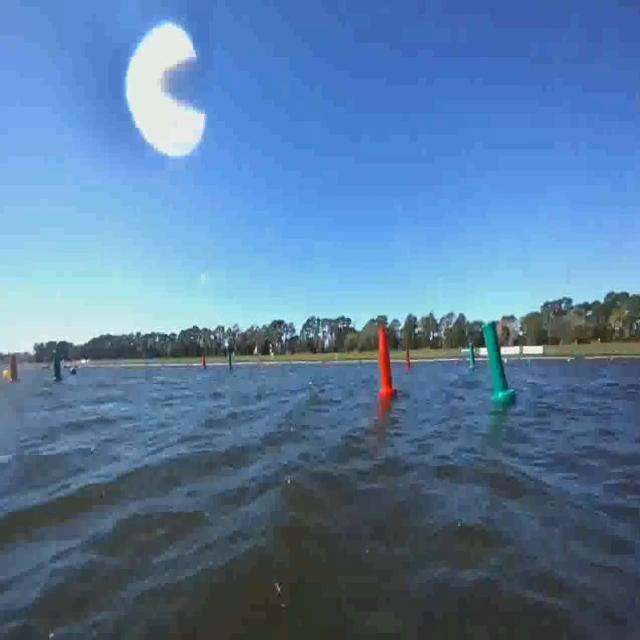black-buoy: (70, 364, 77, 376)
green-column-buoy: (484, 321, 517, 406), (51, 343, 66, 383), (470, 344, 478, 370), (227, 352, 234, 372)
red-column-buoy: (377, 324, 397, 399), (9, 353, 20, 382), (407, 350, 413, 372), (202, 354, 209, 370)
